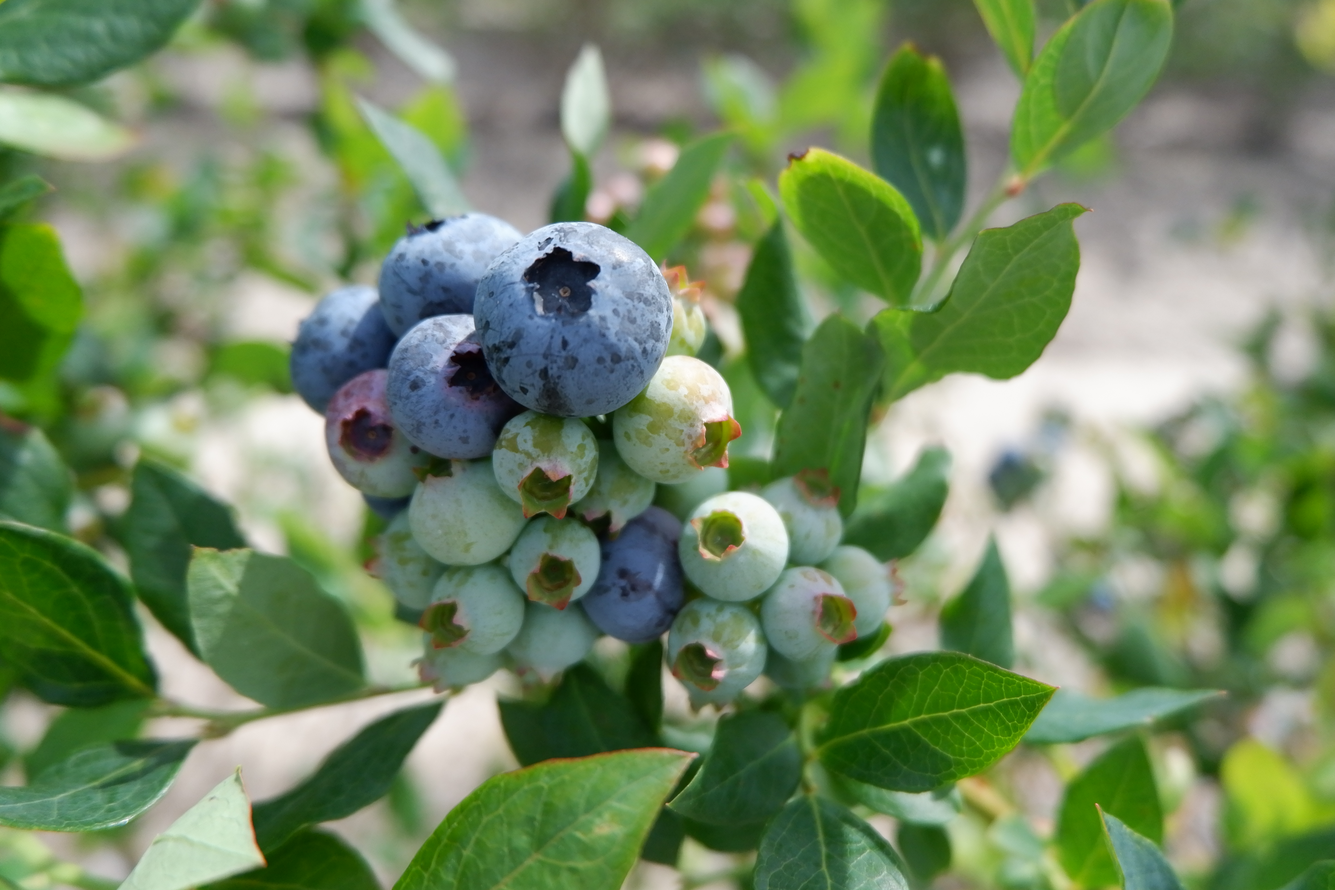Immature: (614, 359, 737, 480), (325, 372, 432, 500), (410, 459, 522, 563), (680, 495, 788, 601), (494, 416, 596, 513), (670, 599, 765, 700), (428, 565, 524, 652), (761, 570, 851, 657), (511, 516, 598, 605), (505, 602, 597, 686), (763, 472, 841, 564), (576, 437, 653, 530), (365, 519, 442, 609), (823, 548, 903, 633), (654, 468, 729, 517), (667, 268, 705, 356), (764, 647, 834, 692)
Mature: (478, 227, 666, 415), (387, 319, 517, 456), (378, 216, 519, 330), (583, 510, 684, 640), (291, 287, 392, 410)
